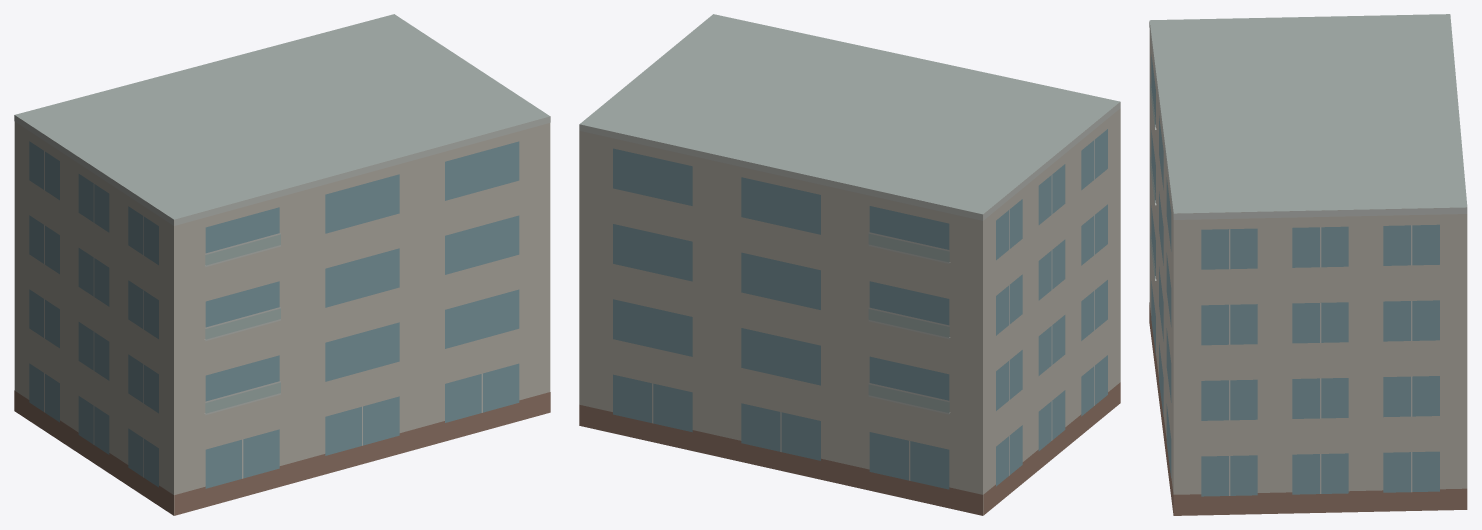
File: survey-upis-32922873.glb
3 views of the same model, side by side, from view 1: azimuth 30°, elevation 25°; view 2: azimuth 150°, elevation 25°; view 3: azimuth 270°, elevation 25° (orthographic). The views are drawn at different scales.
Parts seen in each view (by area): view 1: survey-upis-32922873.tmp; view 2: survey-upis-32922873.tmp; view 3: survey-upis-32922873.tmp.
Part boxes in pixels (x1,y1,x2,y2): survey-upis-32922873.tmp: (14,14,550,515); survey-upis-32922873.tmp: (579,14,1120,515); survey-upis-32922873.tmp: (1149,14,1467,515).
Bounding box in the file's own units: 16 × 11.3 × 10.78.
